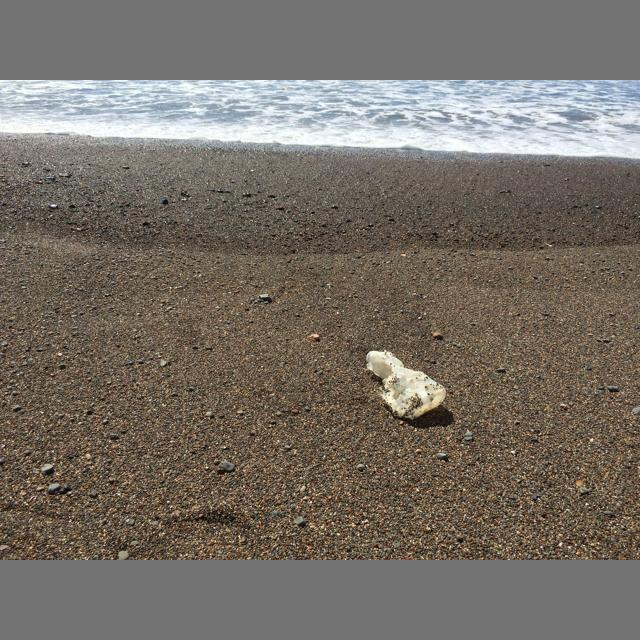litter: (366, 349, 446, 420)
